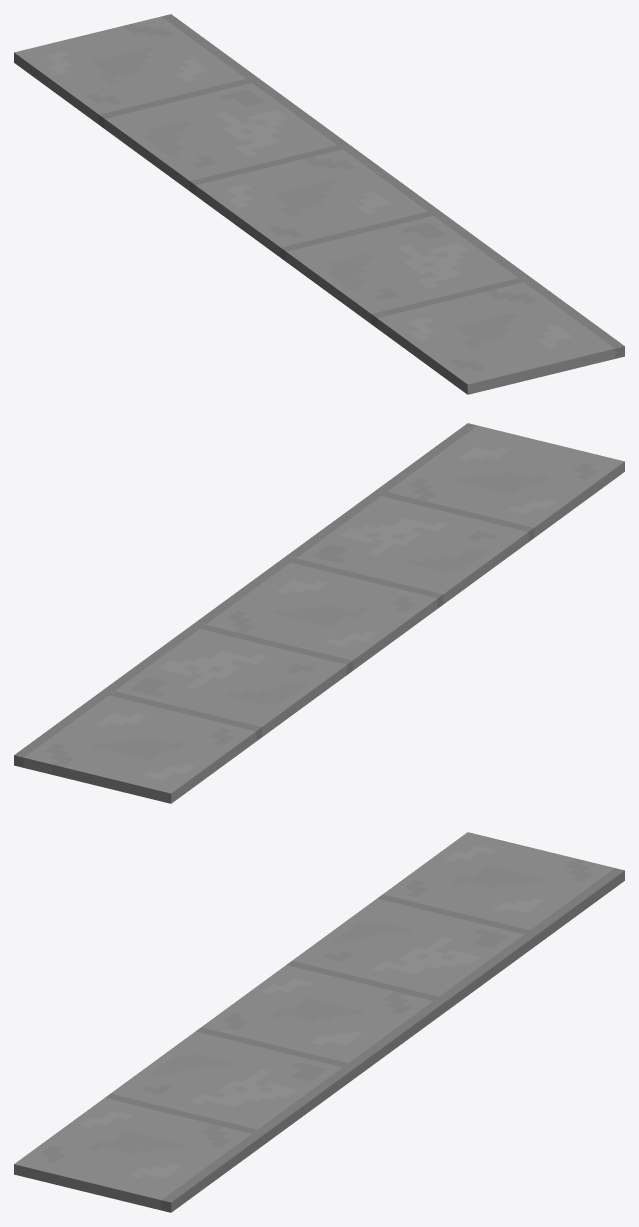
File: sidewalk_tcrossing.gltf
3 renders of one model, top to bottom at view 1: azimuth 30°, elevation 25°; view 2: azimuth 150°, elevation 25°; view 3: azimuth 330°, elevation 25°, orthographic.
Visible parts, largest first — view 1: Layer.1; view 2: Layer.1; view 3: Layer.1.
Part boxes in pixels (bbox=[...]): Layer.1: bbox=[14, 14, 624, 394]; Layer.1: bbox=[14, 423, 624, 803]; Layer.1: bbox=[14, 832, 624, 1212].
Size of the model in its own units: 16 by 1 by 80.
1 material, 1 textured.
